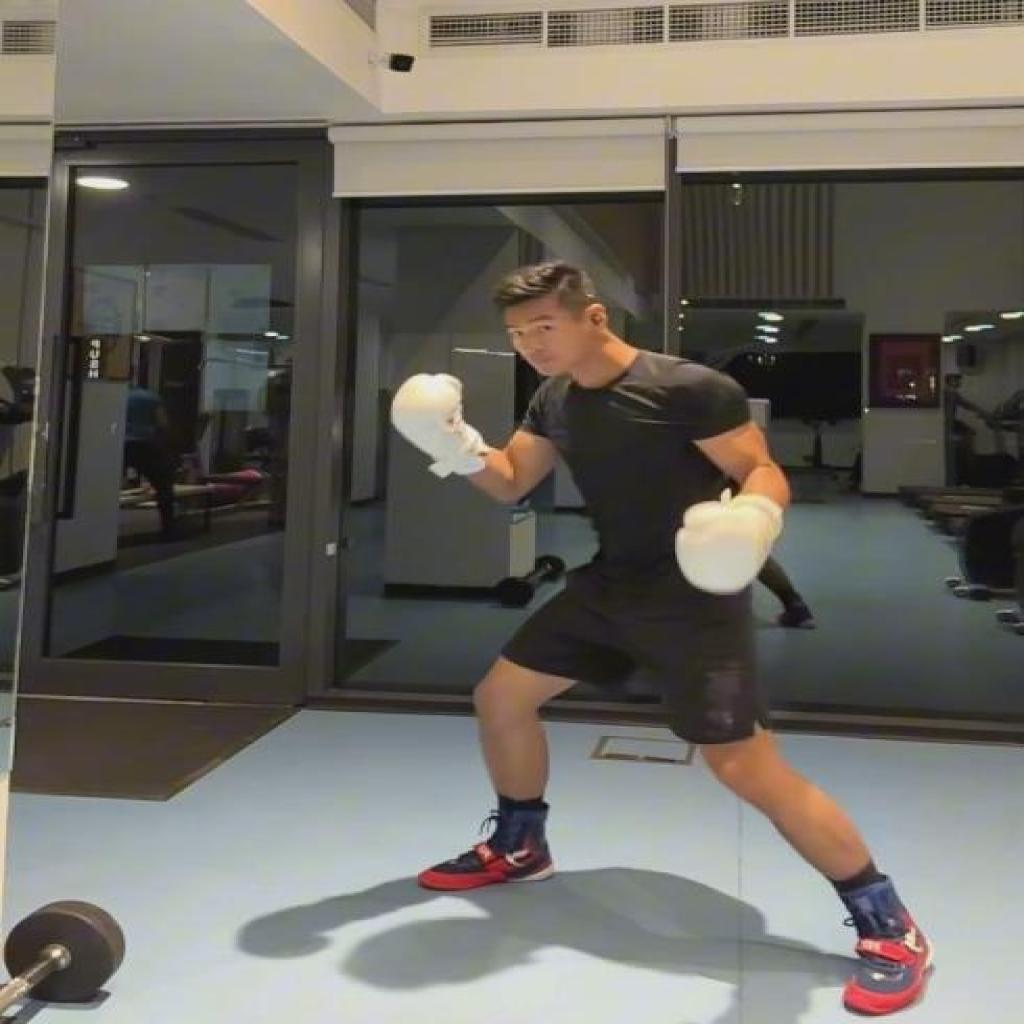no punch: (382, 258, 944, 1020)
